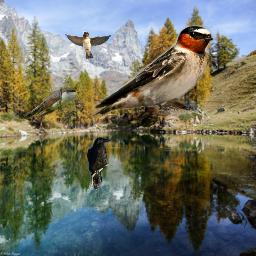Crow: (87, 137, 112, 192)
Cuckoo: (18, 87, 80, 119)
Swallow: (92, 24, 215, 116), (62, 31, 113, 59)
